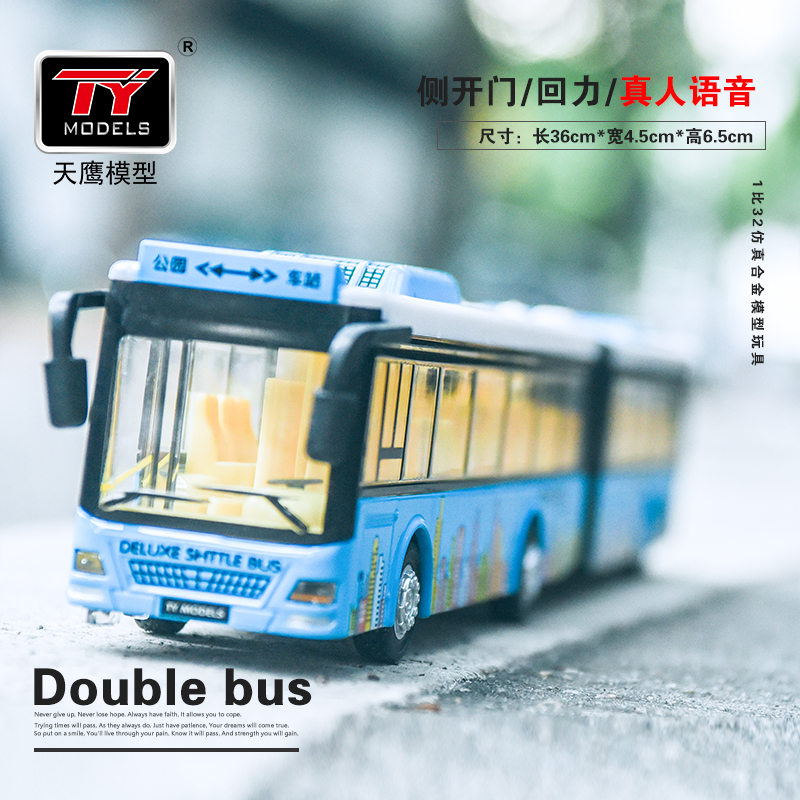Car: (35, 224, 706, 664)
